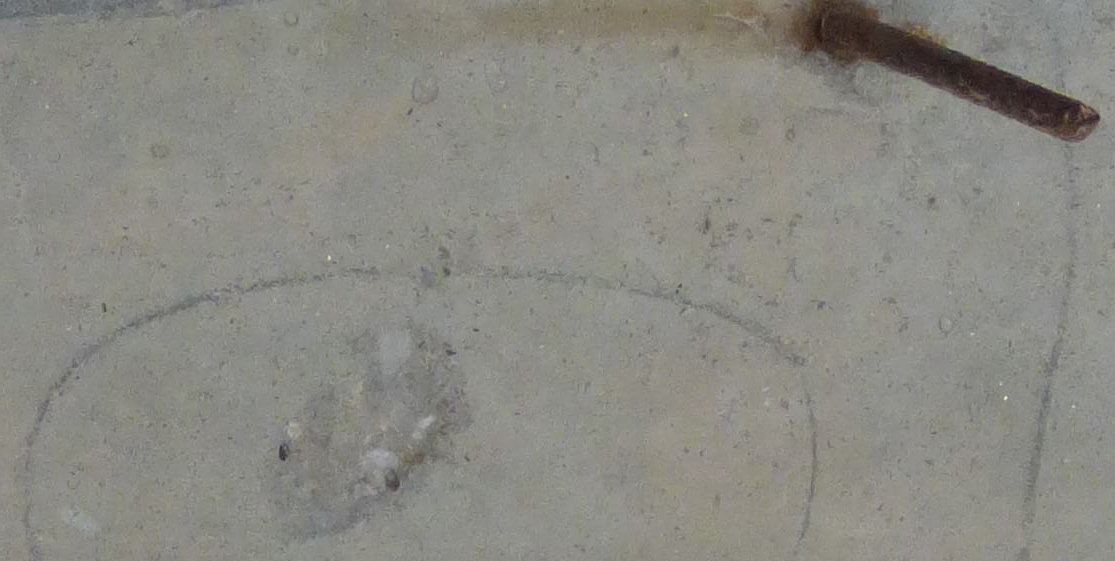Exposed reinforcement: (822, 12, 1101, 144)
Spalling: (264, 319, 471, 545)
